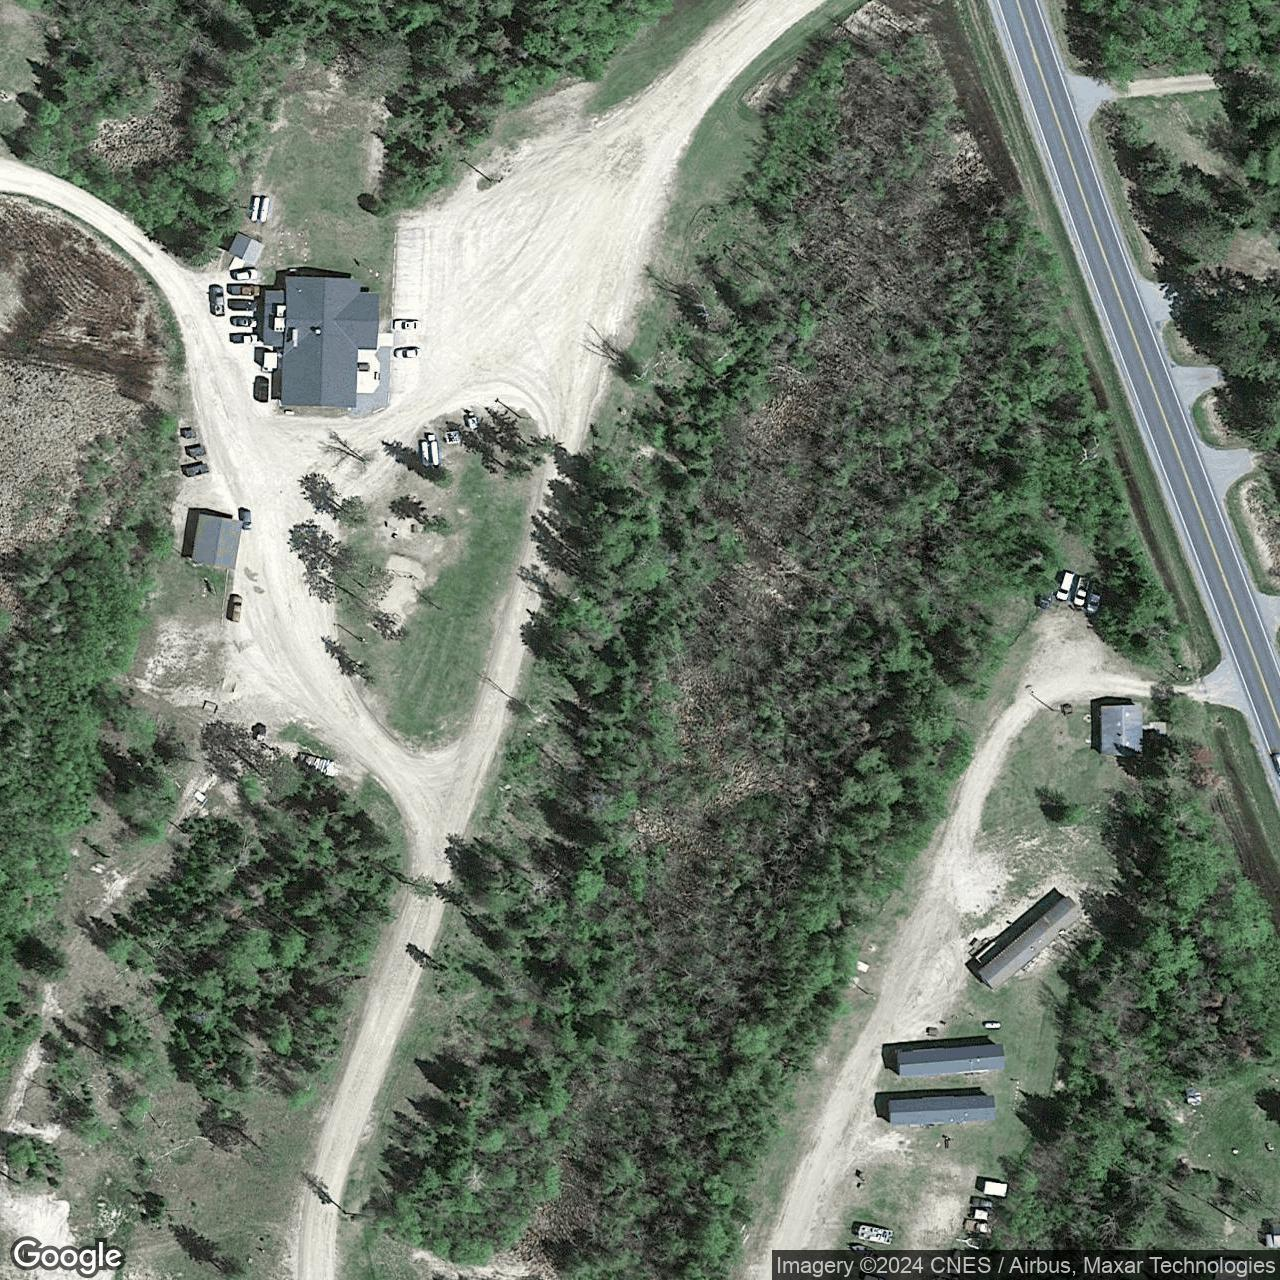Garage: (189, 512, 246, 572), (227, 231, 266, 265)
House: (261, 274, 380, 409), (1099, 704, 1144, 756), (1266, 1221, 1280, 1250)
Propane: (248, 195, 261, 223), (259, 195, 270, 223), (430, 441, 441, 467), (420, 442, 430, 468), (982, 1021, 1001, 1029)
Trailer: (975, 893, 1084, 992), (896, 1044, 1006, 1076), (887, 1095, 994, 1125)
